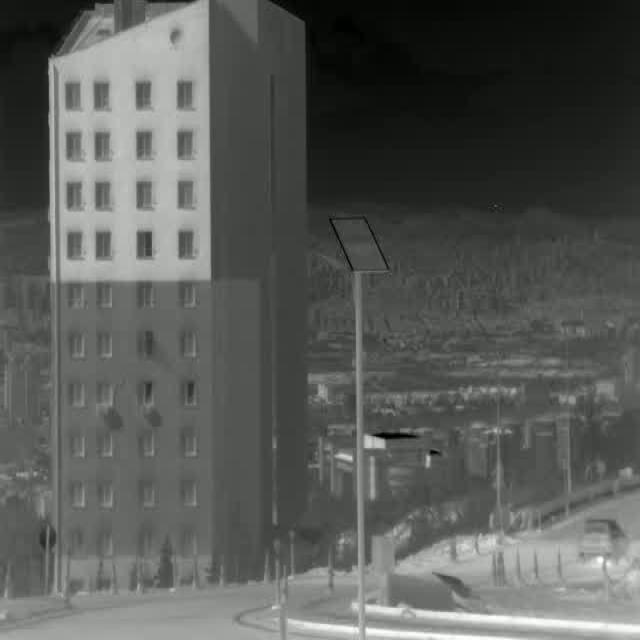Car: (579, 515, 629, 562)
